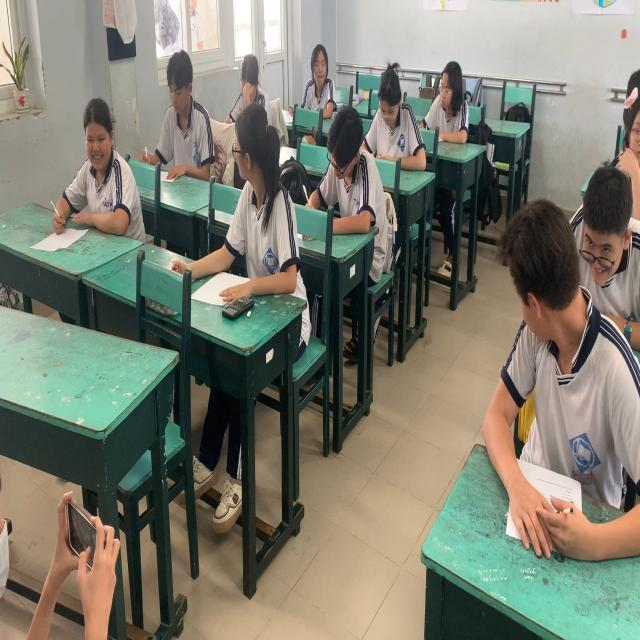cheating: (478, 198, 640, 557), (219, 101, 308, 319), (577, 174, 637, 308)
not_cheating: (136, 36, 222, 180), (62, 87, 136, 246), (318, 105, 378, 236), (354, 56, 424, 167), (426, 46, 476, 156), (227, 53, 268, 105), (306, 46, 332, 128)
